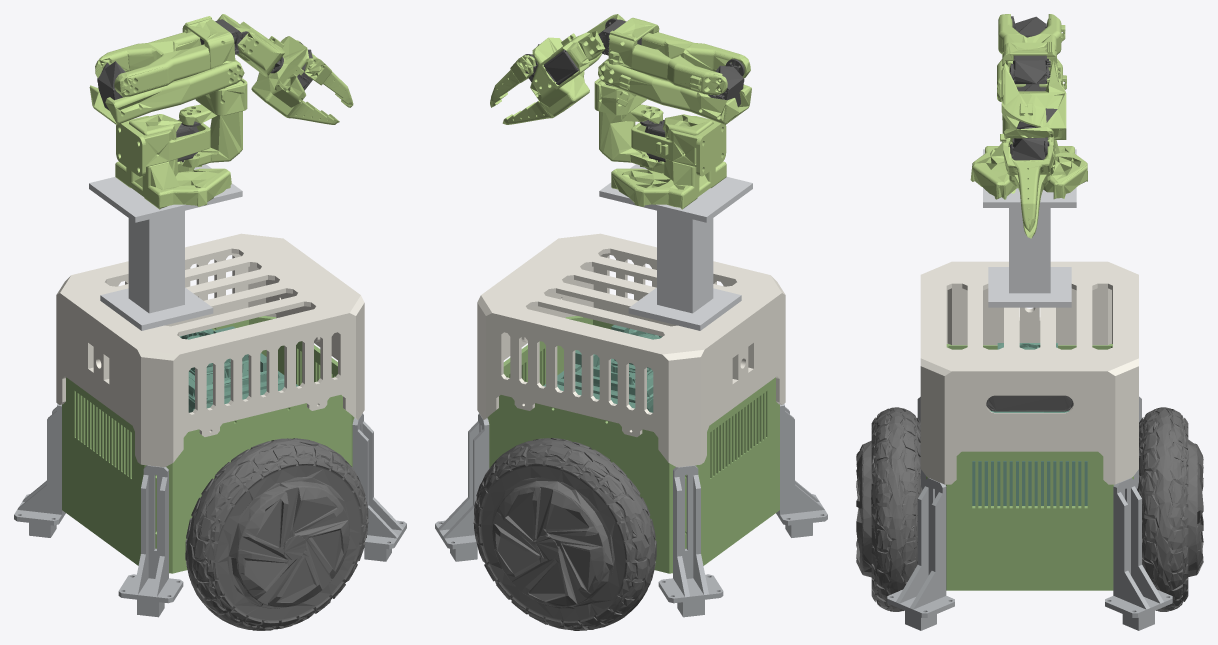
The model's file is via_c_v0_1_gap.glb.
The picture shows the model from 3 angles, left to right: view 1: azimuth 30°, elevation 25°; view 2: azimuth 150°, elevation 25°; view 3: azimuth 270°, elevation 25°; orthographic projection.
Parts seen in each view (by area): view 1: base_shell, base_wheel, base_chassis, base_bracket, riser, base_link_1, lower_arm_link_9, upper_arm_link_8, gripper_link_15, shoulder_link_6, base_board, base_link_0 (+6 smaller); view 2: base_shell, base_wheel, base_chassis, base_bracket, riser, base_link_1, lower_arm_link_9, upper_arm_link_8, gripper_link_15, shoulder_link_6, base_board, base_link_0 (+7 smaller); view 3: base_shell, base_wheel, base_chassis, base_bracket, riser, base_board, base_link_1, wrist_link_13, moving_jaw_so101_v1_link_16, lower_arm_link_9, base_cam, gripper_link_15 (+4 smaller).
Part boxes in pixels (x1,y1,x2,y2): base_shell: (56,233,364,467); base_wheel: (185,438,368,630); base_chassis: (62,316,354,573); base_bracket: (14,403,406,617); riser: (89,164,242,330); base_link_1: (115,114,231,209); lower_arm_link_9: (95,31,210,97); upper_arm_link_8: (89,60,244,124); gripper_link_15: (251,36,339,124); shoulder_link_6: (179,80,243,167); base_board: (179,326,298,412); base_link_0: (124,116,210,166); base_shell: (477,233,785,467); base_wheel: (473,438,656,630); base_chassis: (487,316,779,573); base_bracket: (435,403,827,617); riser: (599,164,752,330); base_link_1: (611,114,726,209); lower_arm_link_9: (608,32,750,95); upper_arm_link_8: (598,59,751,124); gripper_link_15: (502,37,589,124); shoulder_link_6: (598,81,663,167); base_board: (543,325,662,412); base_link_0: (631,116,717,166); base_shell: (920,261,1138,484); base_wheel: (856,407,1203,611); base_chassis: (926,344,1133,590); base_bracket: (887,396,1172,630); riser: (983,149,1076,307); base_board: (972,343,1087,505); base_link_1: (970,140,1087,199); wrist_link_13: (1001,60,1066,139); moving_jaw_so101_v1_link_16: (1003,137,1053,232); lower_arm_link_9: (998,14,1065,83); base_cam: (986,395,1073,411); gripper_link_15: (1000,127,1055,238).
Bounding box in the file's own units: 0.3193 × 0.5897 × 0.3342.
